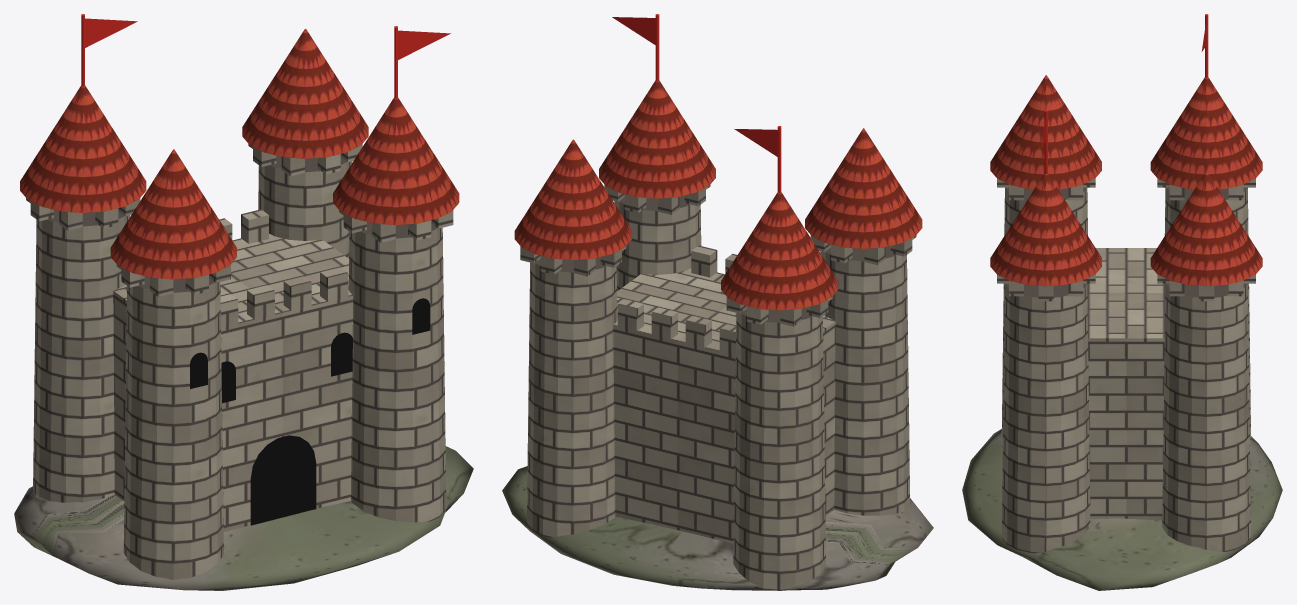
Rendered from prop_castle.glb.
The picture shows the model from 3 angles, left to right: view 1: azimuth 30°, elevation 25°; view 2: azimuth 150°, elevation 25°; view 3: azimuth 270°, elevation 25°; orthographic projection. The views are drawn at different scales.
Visible parts, largest first — view 1: stone, roof, rock, dark, flag; view 2: stone, roof, rock, flag; view 3: stone, roof, rock, flag.
Part boxes in pixels (x1,y1,x2,y2): stone: (26, 144, 453, 579); roof: (20, 29, 459, 279); rock: (14, 446, 473, 590); dark: (190, 298, 430, 525); flag: (81, 14, 450, 98); stone: (520, 184, 916, 590); roof: (514, 80, 922, 310); rock: (502, 466, 933, 590); flag: (612, 14, 781, 193); stone: (997, 178, 1255, 553); roof: (990, 75, 1262, 286); rock: (962, 429, 1282, 590); flag: (1041, 14, 1208, 174).
Bounding box in the file's own units: 12.83 × 14.55 × 9.59.
Materials: 5 (3 with a texture image).
